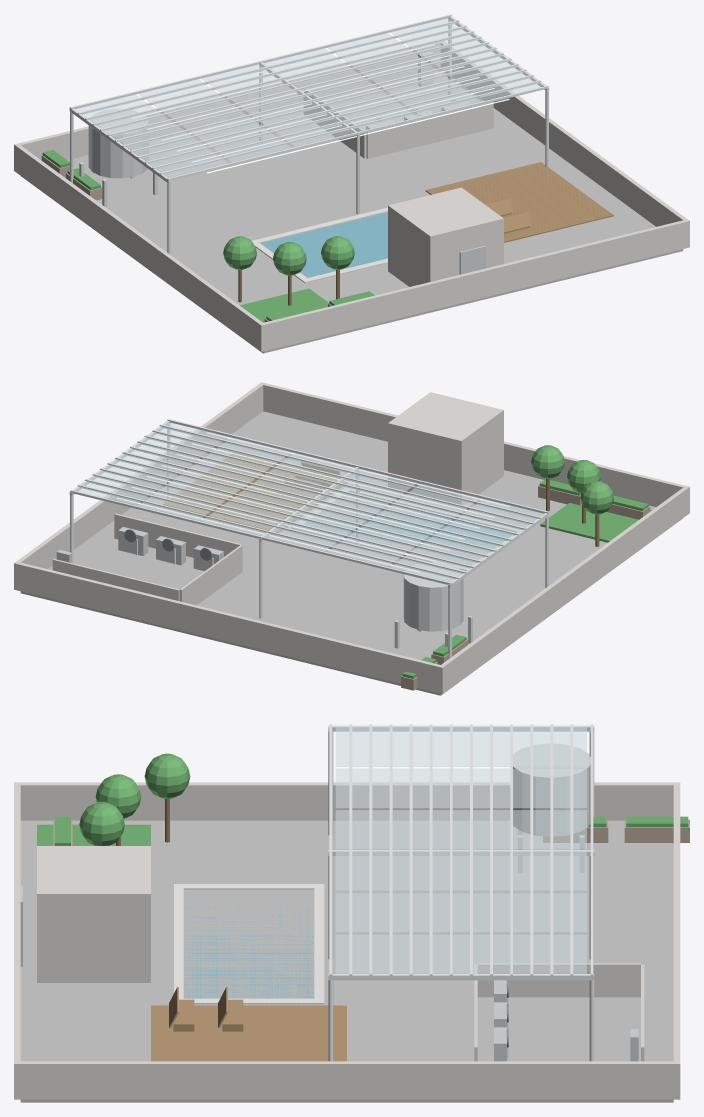
File: rooftop.glb
The picture shows the model from 3 angles, top to bottom: view 1: azimuth 30°, elevation 25°; view 2: azimuth 150°, elevation 25°; view 3: azimuth 270°, elevation 25°; orthographic projection. The views are drawn at different scales.
Parts seen in each view (by area): view 1: TT_RoofSlab, TT_Parapet_S, TT_LiftCore, TT_Parapet_W, TT_Parapet_E, TT_Parapet_N, TT_Pergola_Glass_03, TT_Pergola_Glass_00, TT_Pergola_Glass_01, TT_Pergola_Glass_04, TT_Pergola_Glass_05, TT_Pergola_Glass_02 (+29 smaller); view 2: TT_RoofSlab, TT_Parapet_N, TT_LiftCore, TT_Parapet_W, TT_Parapet_S, TT_Parapet_E, TT_Pergola_Glass_02, TT_Pergola_Glass_04, TT_Pergola_Glass_00, TT_Pergola_Glass_01, TT_Pergola_Glass_05, TT_Pergola_Glass_03 (+37 smaller); view 3: TT_RoofSlab, TT_Parapet_E, TT_Parapet_W, TT_LiftCore, TT_HVAC_Base, TT_Pergola_Glass_04, TT_Pergola_Glass_01, TT_Pergola_Glass_00, TT_Pergola_Glass_02, TT_Pergola_Glass_03, TT_Pergola_Glass_05, TT_WaterTank (+35 smaller).
Boxes of the visible parts, x1,y1,x2,y2 form: TT_RoofSlab: (21, 70, 683, 353); TT_Parapet_S: (259, 219, 689, 351); TT_LiftCore: (388, 187, 503, 286); TT_Parapet_W: (16, 145, 262, 349); TT_Parapet_E: (440, 42, 686, 226); TT_Parapet_N: (14, 41, 444, 171); TT_Pergola_Glass_03: (264, 48, 417, 131); TT_Pergola_Glass_00: (75, 94, 227, 177); TT_Pergola_Glass_01: (139, 79, 291, 161); TT_Pergola_Glass_04: (328, 33, 480, 115); TT_Pergola_Glass_05: (390, 18, 542, 100); TT_Pergola_Glass_02: (201, 64, 354, 146); TT_RoofSlab: (20, 411, 682, 695); TT_Parapet_N: (14, 561, 444, 693); TT_LiftCore: (388, 392, 503, 505); TT_Parapet_W: (441, 487, 687, 691); TT_Parapet_S: (259, 382, 689, 514); TT_Parapet_E: (16, 384, 263, 568); TT_Pergola_Glass_02: (264, 468, 416, 550); TT_Pergola_Glass_04: (138, 437, 291, 520); TT_Pergola_Glass_00: (390, 499, 543, 581); TT_Pergola_Glass_01: (328, 483, 480, 566); TT_Pergola_Glass_05: (75, 422, 227, 504); TT_Pergola_Glass_03: (201, 453, 354, 535); TT_RoofSlab: (20, 820, 673, 1102); TT_Parapet_E: (20, 1061, 673, 1099); TT_Parapet_W: (20, 782, 673, 820); TT_LiftCore: (37, 846, 150, 982); TT_HVAC_Base: (477, 997, 640, 1061); TT_Pergola_Glass_04: (335, 892, 586, 932); TT_Pergola_Glass_01: (335, 768, 586, 808); TT_Pergola_Glass_00: (335, 727, 586, 766); TT_Pergola_Glass_02: (335, 810, 586, 849); TT_Pergola_Glass_03: (335, 851, 586, 890); TT_Pergola_Glass_05: (335, 934, 586, 973); TT_WaterTank: (513, 743, 590, 836).
Size of the model in its own units: 20.4 by 5.3 by 20.7.
